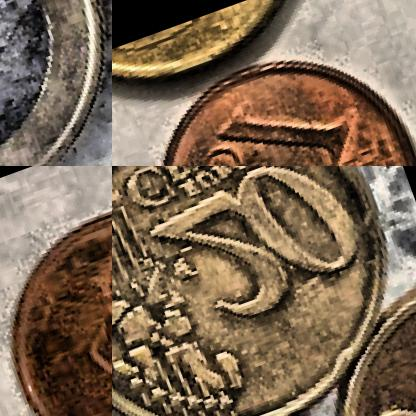coin: (112, 166, 415, 415), (124, 23, 415, 165), (0, 166, 111, 415), (0, 0, 111, 165)
